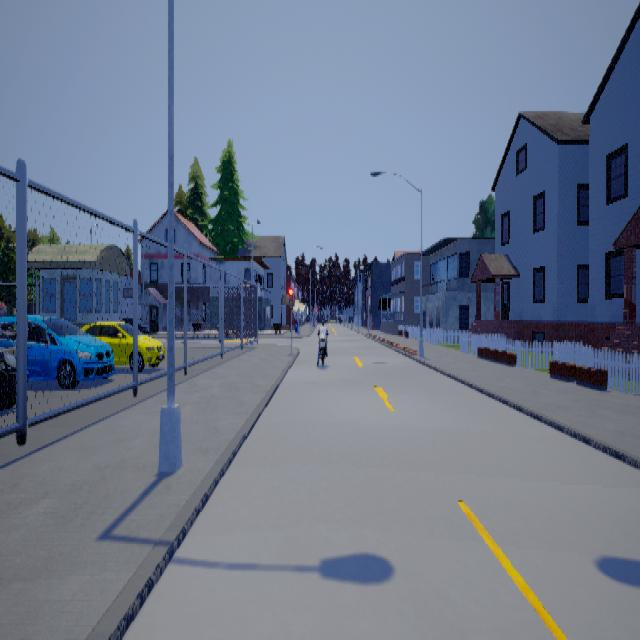motobike: (316, 320, 331, 365)
red_light: (290, 283, 294, 308)
vehicle: (28, 314, 134, 388), (79, 320, 166, 369), (1, 332, 17, 409)
